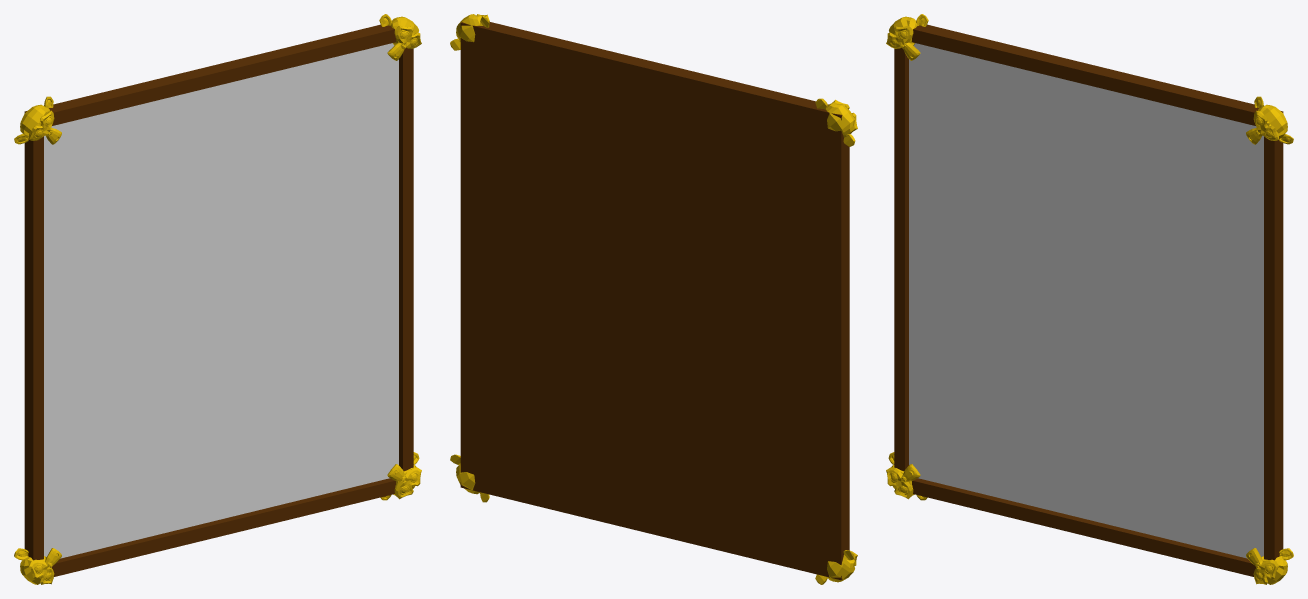
File: pictureFrame.fbx
The picture shows the model from 3 angles, left to right: view 1: azimuth 30°, elevation 25°; view 2: azimuth 150°, elevation 25°; view 3: azimuth 330°, elevation 25°; orthographic projection.
Visible parts, largest first — view 1: Cube, Monke; view 2: Cube, Monke; view 3: Cube, Monke.
Part boxes in pixels (x1,y1,x2,y2): Cube: (24,24,413,576); Monke: (14,14,421,584); Cube: (460,21,849,580); Monke: (450,14,857,584); Cube: (894,24,1283,576); Monke: (886,14,1293,584).
Bounding box in the file's own units: 213 × 244 × 12.91.
